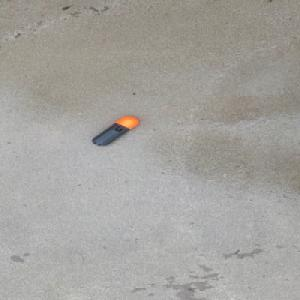PlasticPart: (91, 116, 139, 146)
